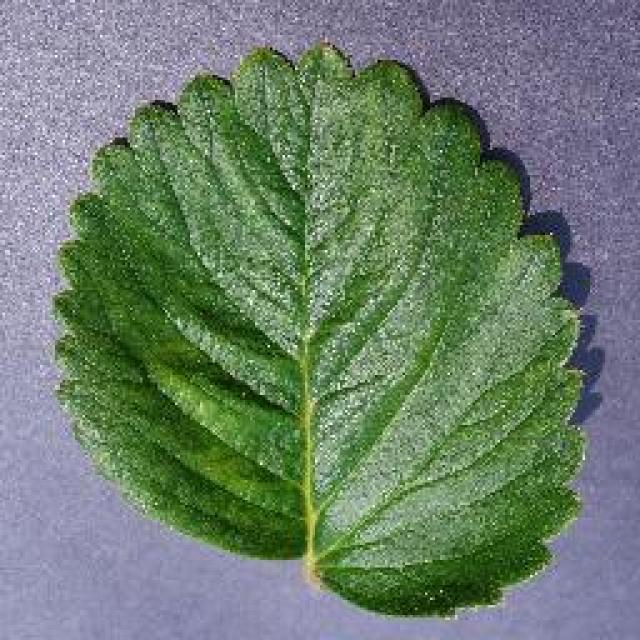Strawberry___healthy: (38, 18, 602, 638)
